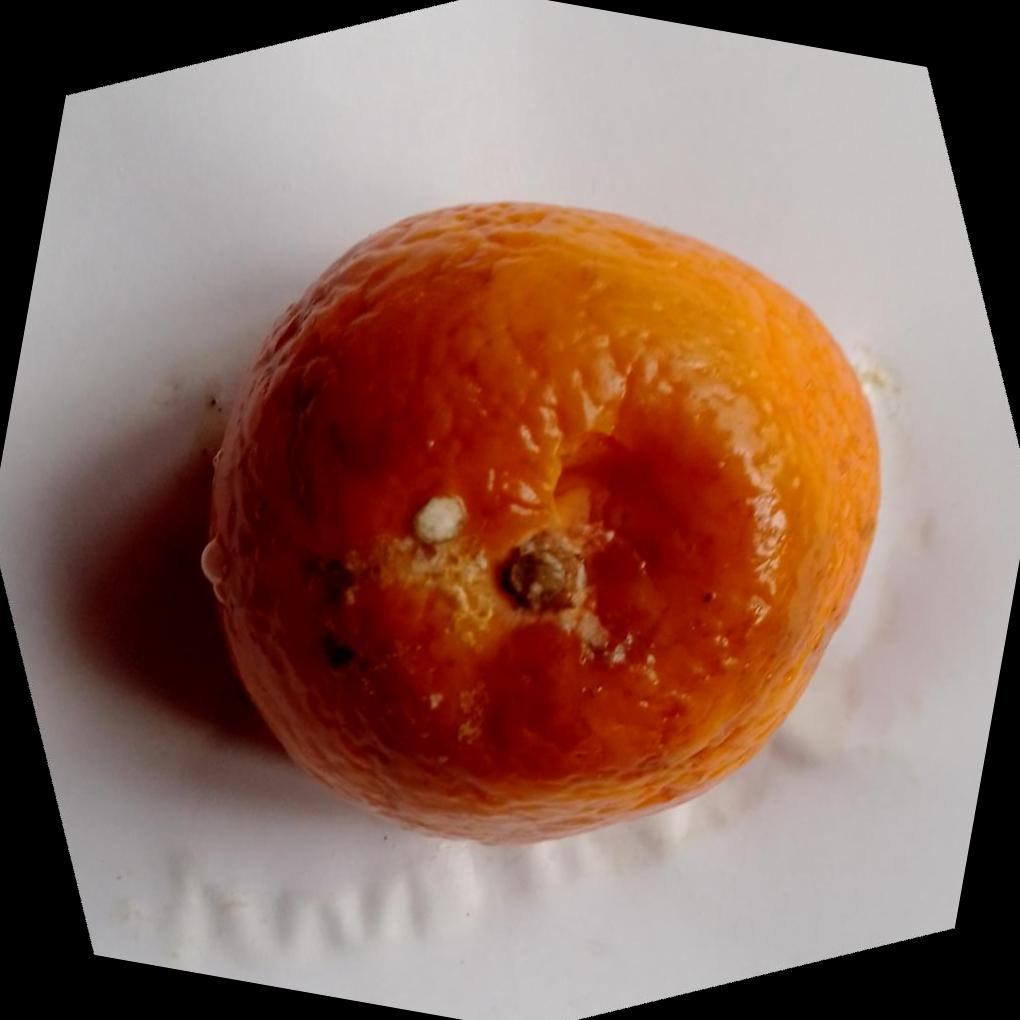FreshOrange: (199, 199, 887, 848)
